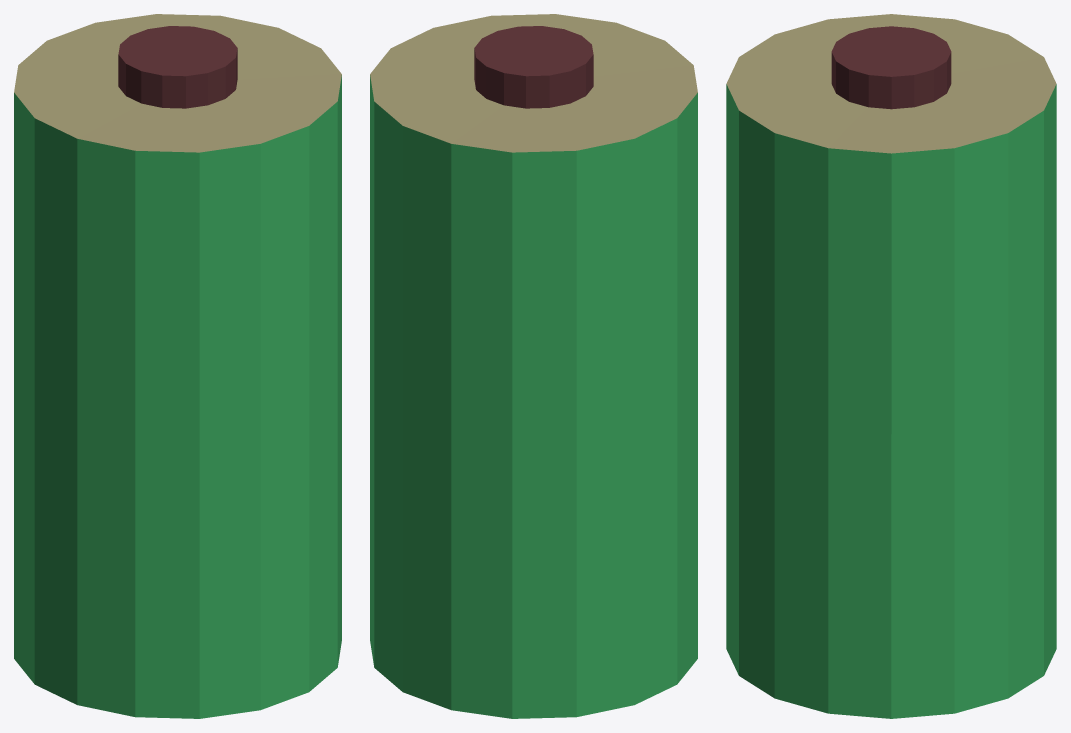
File: Ninja Scroll.fbx
3 views of the same model, side by side, from view 1: azimuth 30°, elevation 25°; view 2: azimuth 150°, elevation 25°; view 3: azimuth 270°, elevation 25° (orthographic).
Visible parts, largest first — view 1: Cylinder; view 2: Cylinder; view 3: Cylinder.
Part boxes in pixels (box(x1,y1,x2,y2)): Cylinder: box(14, 14, 341, 718); Cylinder: box(370, 14, 697, 718); Cylinder: box(726, 14, 1056, 718).
Size of the model in its own units: 66.56 by 142 by 66.56.
